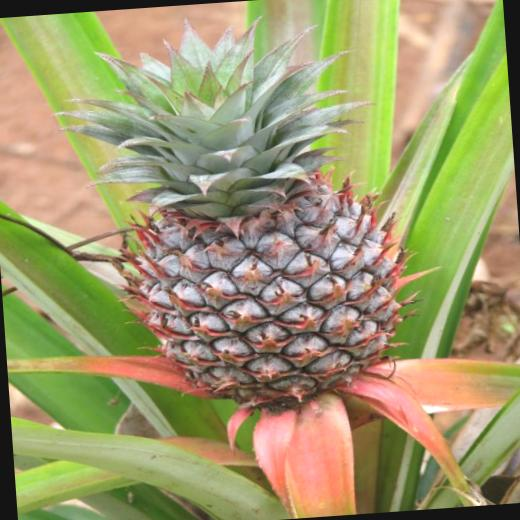Mango: (43, 0, 455, 428)
